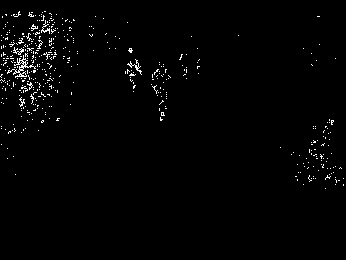person: (151, 60, 170, 123)
